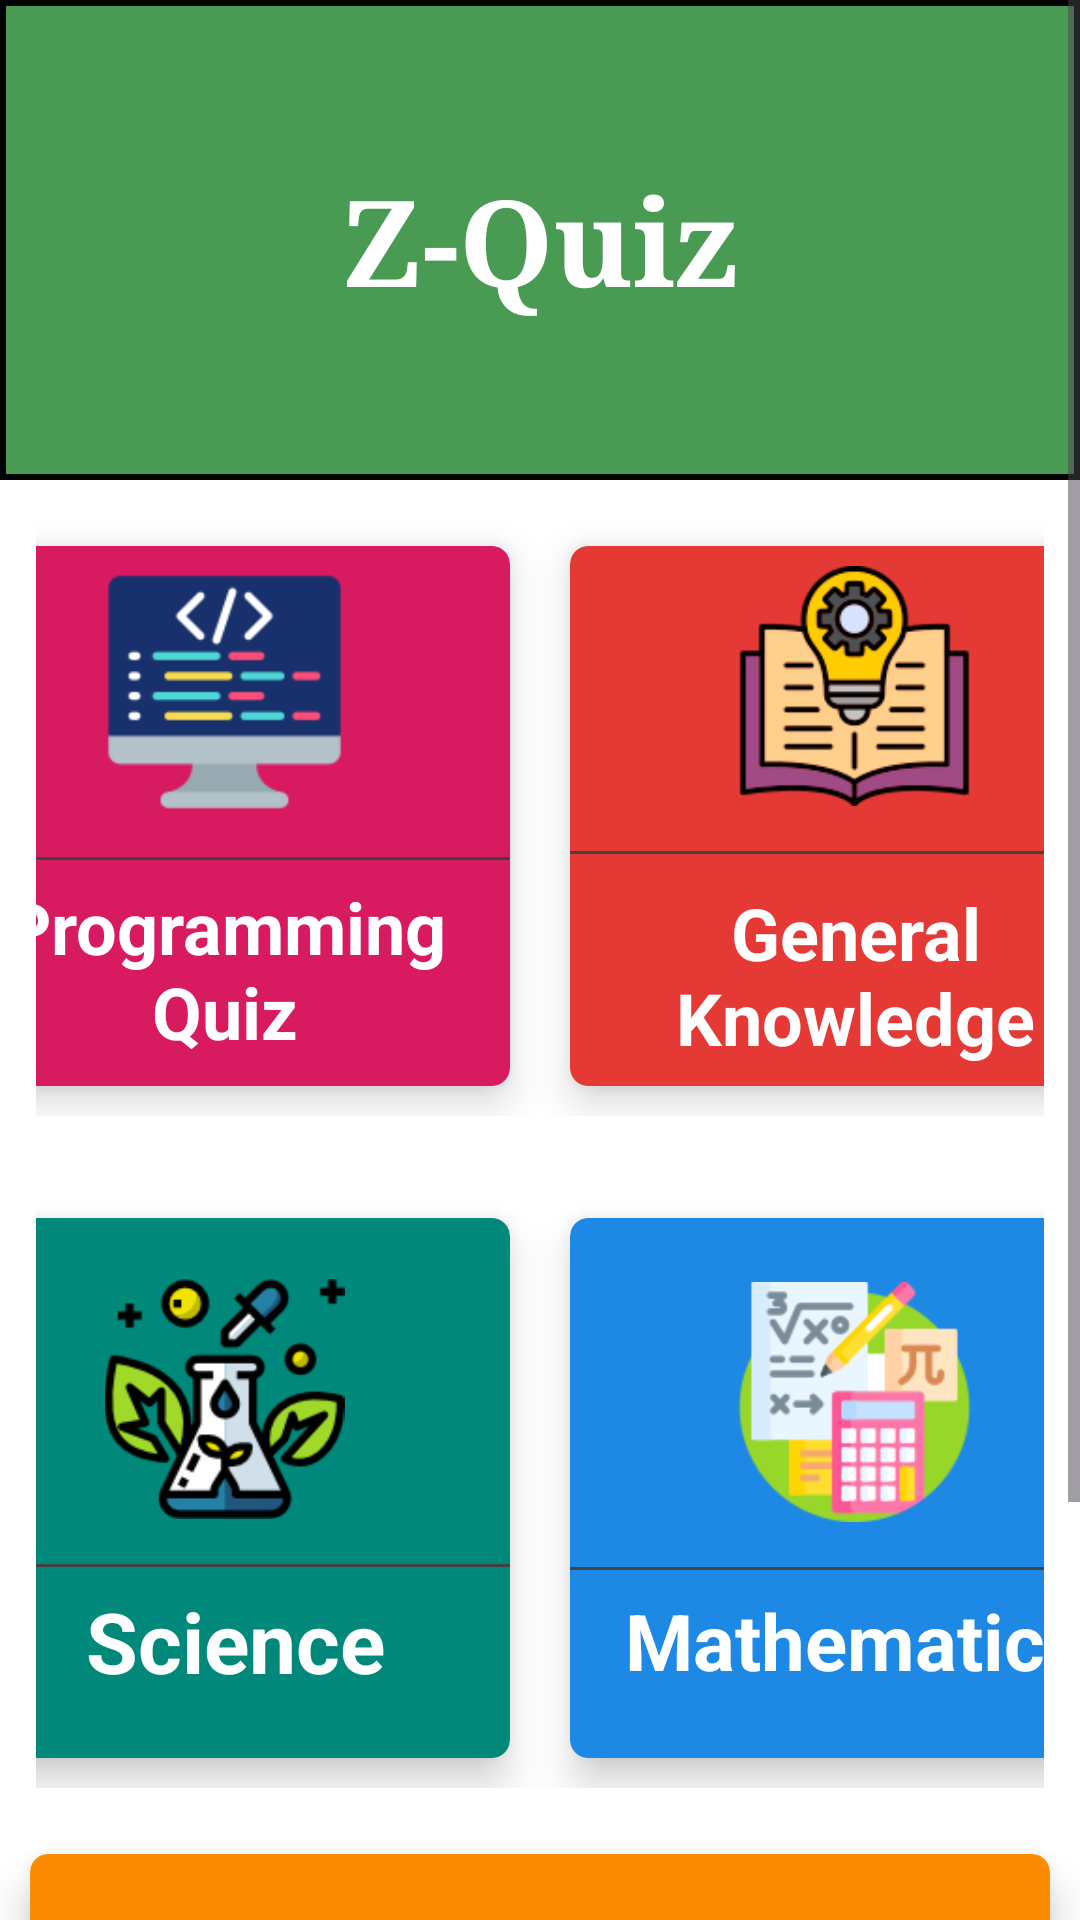

Named icons in this screenshot (1080×1920) and their centers, point (x, y):
book: point (854, 686)
lab: point (225, 1399)
